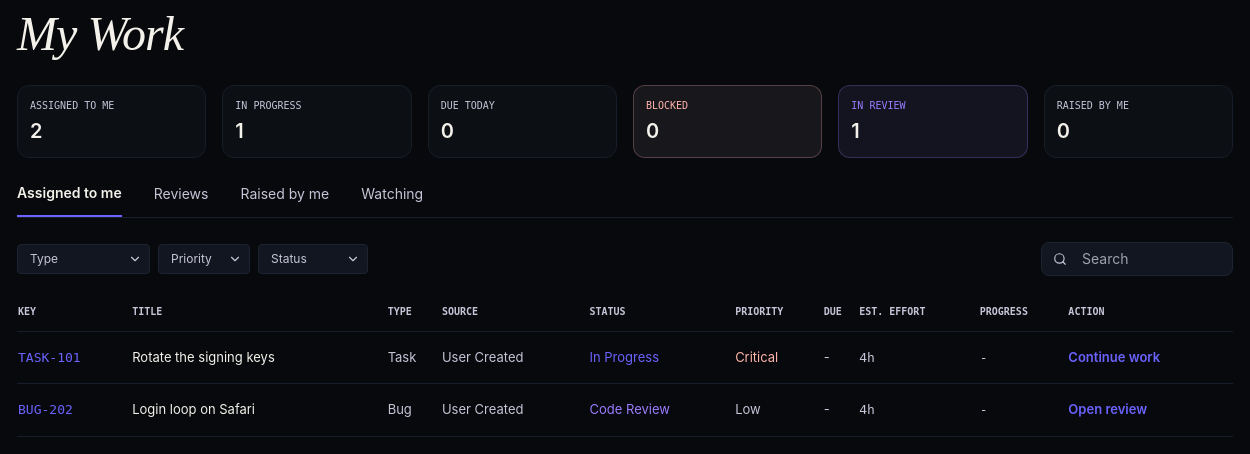
it: MyWorkPage › narrows the list to the review category when the Reviews tab is chosen
This screenshot has width=1250, height=454.
Expected: the link "Rotate the signing keys" is shown, [132, 349, 275, 365]
Click the tab "Reviews".
click(181, 199)  # box [154, 183, 208, 216]
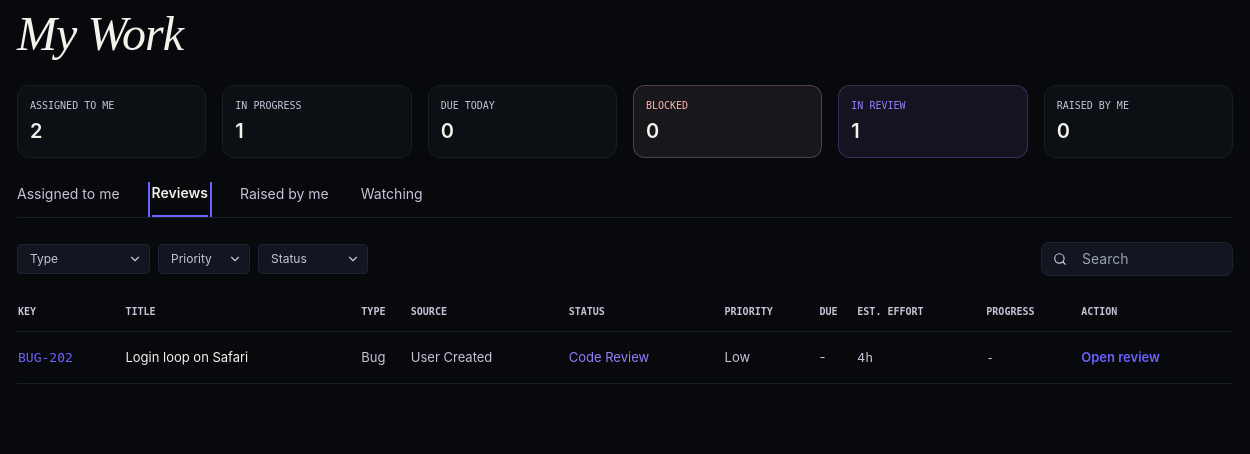
Expected: the link "Login loop on Safari" is shown, [125, 349, 248, 365]
Result: the link "Rotate the signing keys" is gone
